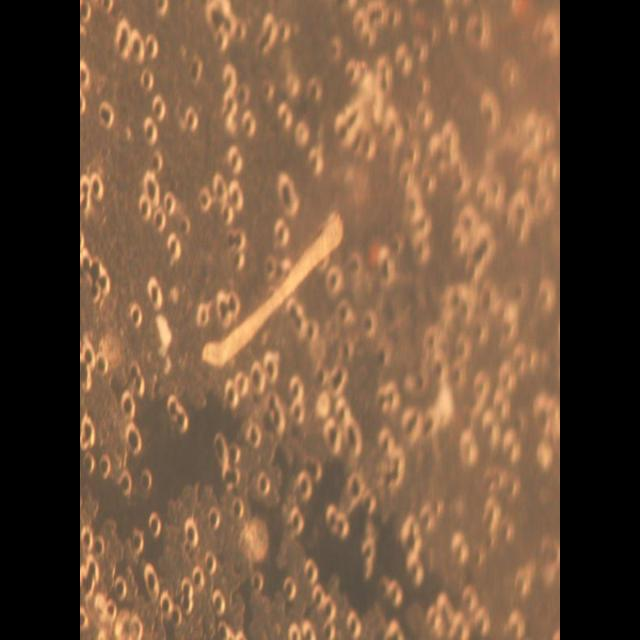Fibre: (200, 204, 346, 370)
